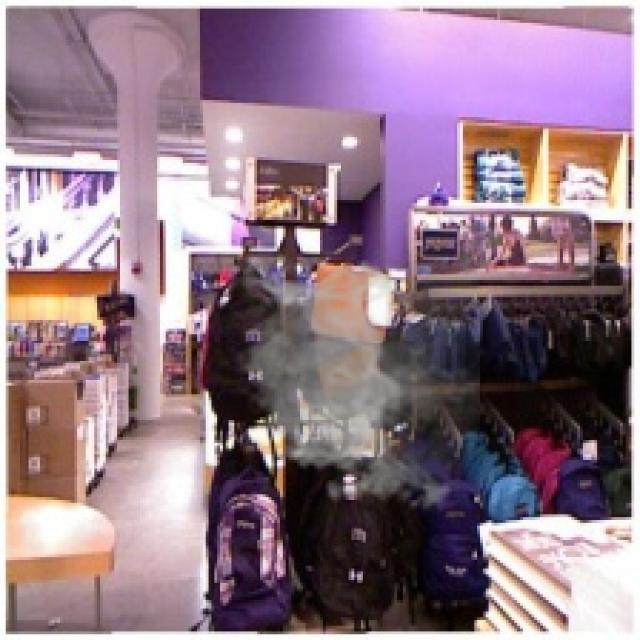smoke: (229, 257, 480, 517)
